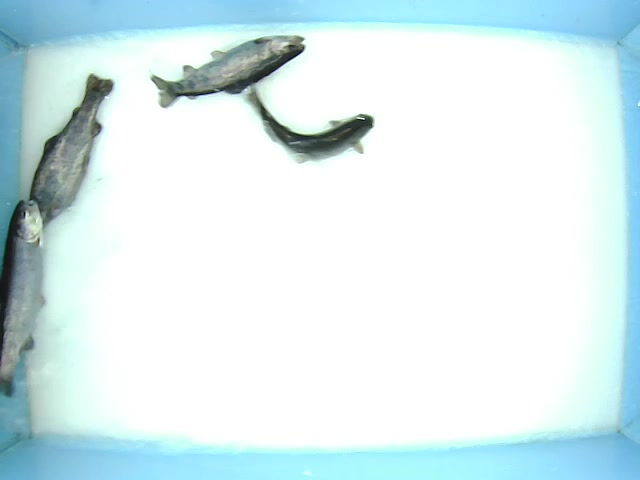fish: (240, 79, 389, 168), (31, 66, 122, 205), (151, 34, 320, 100), (1, 200, 48, 390)
